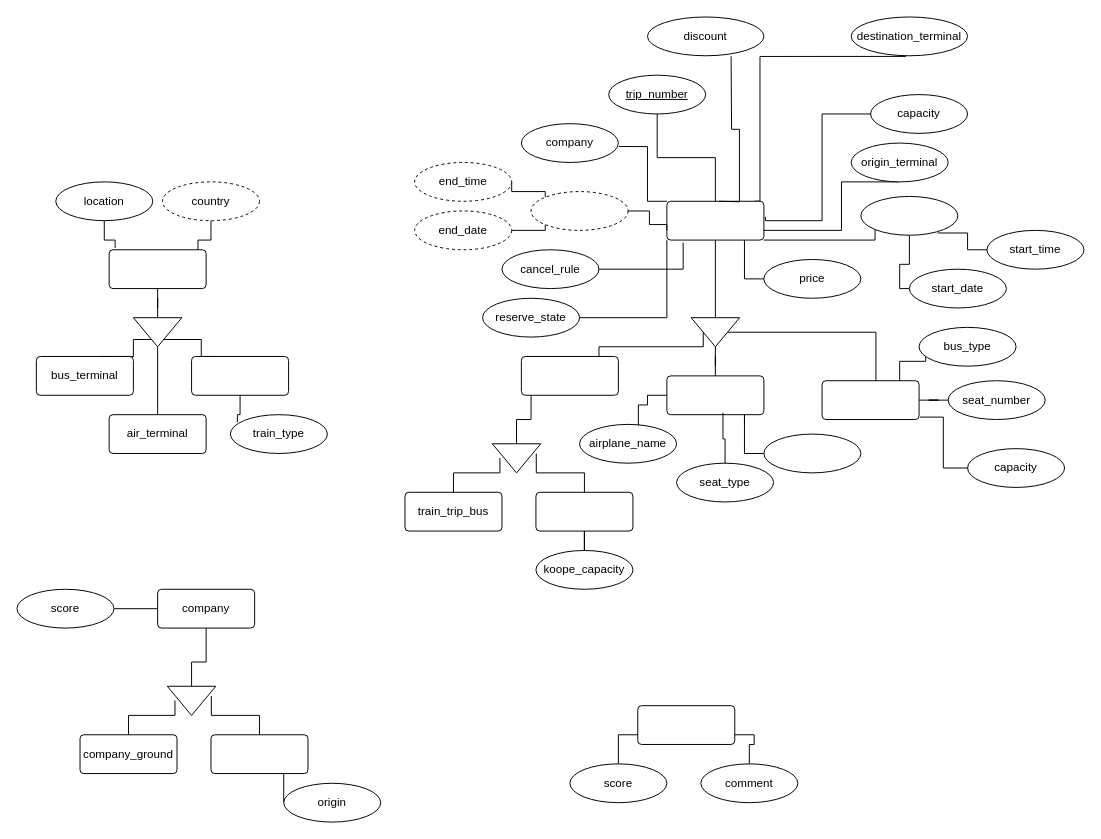
This 1101x839 diagram has some shape labels left out. Here are the shapes that lost their labels. From the top down, the centre of each, then its label:
the point at 579,210: end
the point at 715,220: trip
the point at 909,215: start
the point at 157,269: terminal
the point at 240,375: train_terminal
the point at 569,375: train_trip
the point at 715,395: air_trip
the point at 870,400: bus_trip
the point at 812,453: max_weight
the point at 584,511: tain_trip_koope
the point at 686,724: survey
the point at 259,754: company_air
